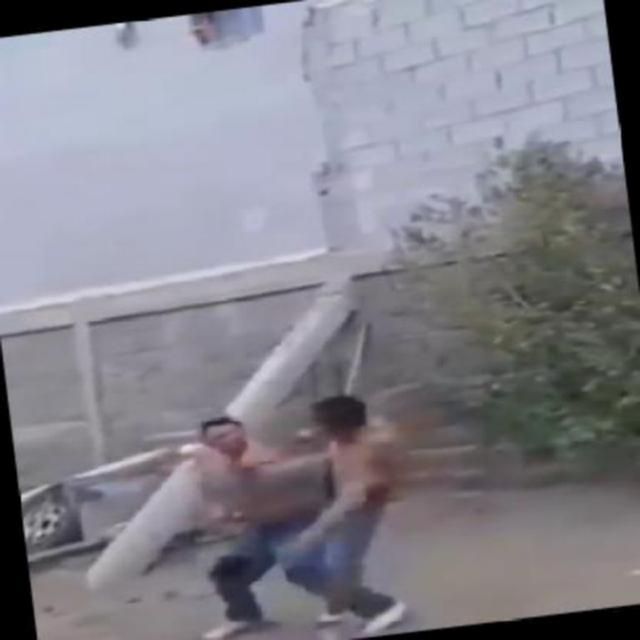fight: (185, 390, 426, 638)
